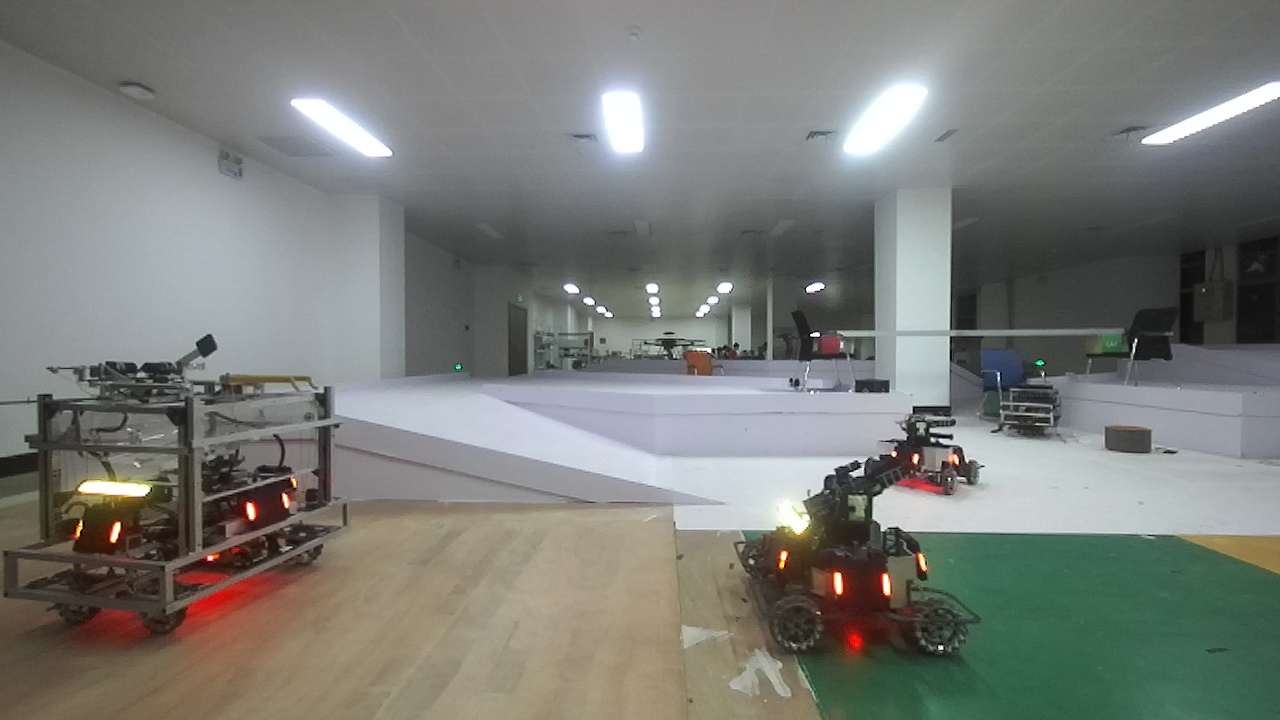car: (1, 319, 350, 643), (723, 447, 971, 664), (873, 406, 989, 500)
